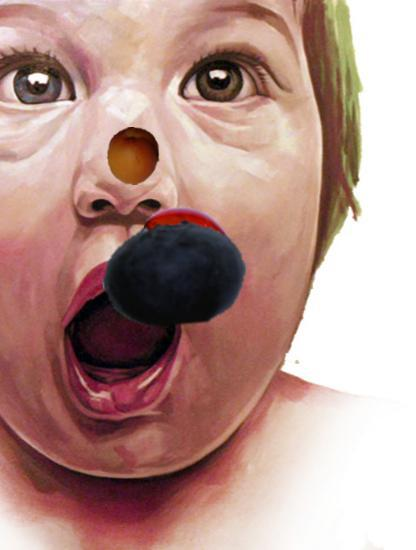Apricot: (104, 127, 163, 186)
Blueberry: (102, 201, 247, 346)
Tamarillo: (140, 195, 244, 299)
